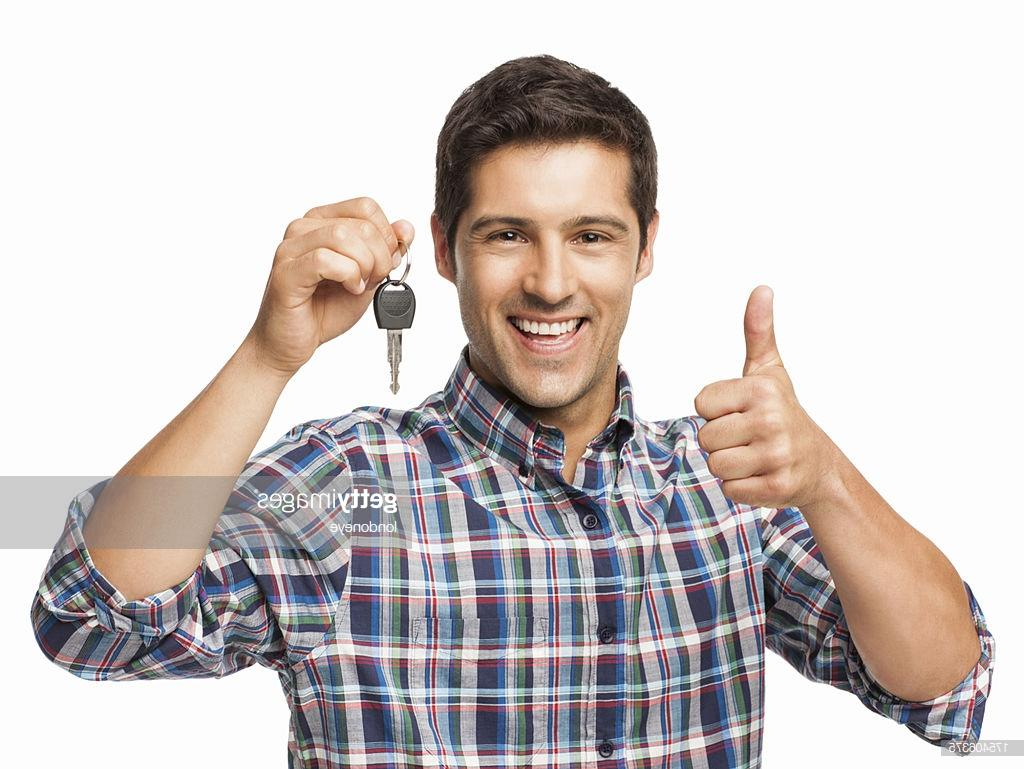thumbsup: (692, 283, 803, 509)
